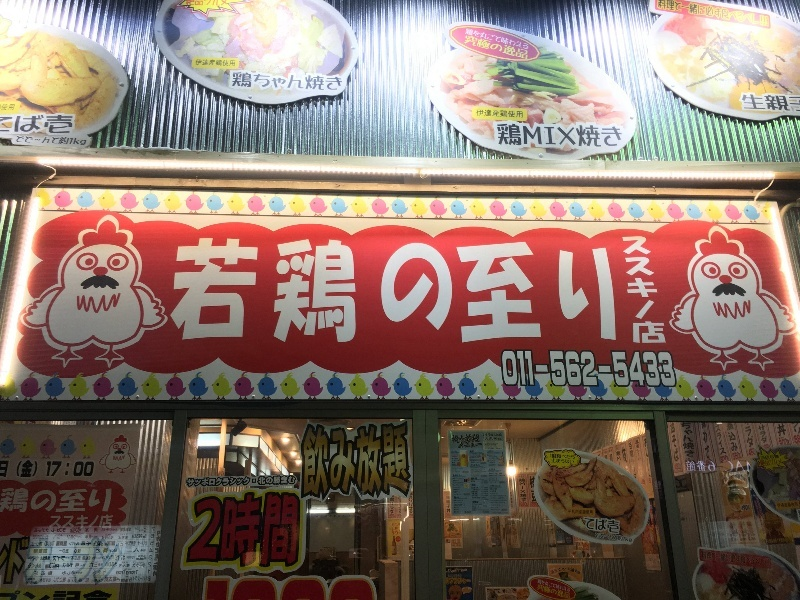text: (625, 230, 640, 349), (641, 230, 656, 349), (177, 236, 192, 348), (193, 236, 208, 348), (209, 236, 224, 348), (225, 236, 240, 348), (241, 236, 256, 348), (257, 236, 272, 348), (273, 236, 288, 348), (289, 236, 304, 348), (305, 236, 320, 348), (321, 236, 336, 348), (337, 236, 352, 348), (353, 236, 368, 348), (369, 236, 384, 348), (385, 236, 400, 348), (401, 236, 416, 348), (417, 236, 432, 348), (433, 236, 448, 348), (449, 236, 464, 348), (465, 236, 480, 348), (481, 236, 496, 348), (497, 236, 512, 348), (513, 236, 528, 348), (529, 236, 544, 348), (545, 236, 560, 348), (561, 236, 576, 348), (577, 236, 592, 348), (593, 236, 608, 348), (609, 236, 623, 348), (289, 490, 305, 574), (657, 230, 668, 349), (193, 490, 208, 574), (209, 490, 224, 574), (225, 490, 240, 574), (241, 490, 256, 574), (257, 490, 272, 574), (273, 490, 288, 574), (305, 420, 320, 503), (321, 420, 336, 503), (337, 420, 352, 503), (353, 420, 368, 503), (369, 420, 384, 503), (385, 420, 400, 503), (465, 451, 480, 515), (481, 451, 496, 515), (401, 420, 412, 503), (452, 451, 464, 515), (497, 451, 508, 515), (17, 537, 31, 586), (674, 423, 688, 471), (513, 349, 528, 389), (529, 349, 544, 389), (545, 349, 560, 389), (561, 349, 576, 389), (577, 349, 592, 389), (593, 349, 608, 389), (609, 349, 624, 389), (625, 349, 640, 389), (641, 349, 656, 389), (657, 349, 672, 389), (150, 526, 160, 583), (498, 349, 512, 389), (646, 437, 656, 485), (620, 230, 624, 349), (529, 476, 544, 507), (1, 486, 16, 516), (17, 486, 32, 516), (33, 486, 48, 516), (49, 486, 64, 516), (65, 486, 80, 516), (81, 486, 96, 516), (97, 486, 112, 516), (513, 35, 529, 61), (481, 35, 496, 61), (497, 35, 512, 61), (497, 122, 512, 148), (513, 122, 528, 148), (529, 122, 544, 148), (545, 122, 560, 148), (561, 122, 576, 148), (577, 122, 592, 148), (593, 122, 608, 148), (209, 573, 224, 599), (225, 573, 240, 599), (241, 573, 256, 599), (257, 573, 272, 599), (273, 573, 288, 599), (289, 573, 304, 599), (305, 573, 320, 599), (321, 573, 336, 599), (337, 573, 352, 599), (353, 573, 368, 599), (513, 28, 529, 51), (466, 35, 480, 61), (241, 71, 256, 94), (257, 71, 272, 94), (273, 71, 288, 94), (289, 71, 304, 94), (305, 71, 320, 94), (321, 71, 336, 94), (481, 28, 496, 51), (497, 28, 512, 51), (673, 1, 688, 24), (689, 1, 704, 24), (705, 1, 720, 24), (721, 1, 736, 24), (609, 122, 622, 148), (188, 490, 192, 574), (705, 424, 713, 466), (753, 93, 768, 115), (769, 93, 784, 115), (17, 112, 32, 134), (33, 112, 48, 134), (49, 112, 64, 134), (466, 28, 480, 51), (658, 1, 672, 24), (673, 349, 681, 389), (632, 442, 640, 481), (785, 93, 799, 115), (705, 549, 720, 569), (721, 549, 736, 569), (737, 549, 752, 569), (753, 549, 768, 569), (10, 537, 16, 586), (369, 573, 380, 599), (593, 516, 608, 535), (726, 425, 736, 453), (19, 458, 32, 479), (49, 461, 64, 478), (65, 461, 80, 478), (81, 461, 96, 478), (519, 479, 528, 507), (301, 420, 304, 503), (681, 423, 688, 458), (689, 423, 696, 458), (741, 93, 752, 115), (65, 112, 76, 134), (641, 440, 646, 486), (609, 516, 621, 535), (545, 578, 560, 593), (545, 584, 560, 599), (483, 433, 496, 450), (757, 425, 768, 445), (65, 516, 80, 530), (81, 516, 96, 530), (97, 516, 112, 530), (390, 497, 400, 518), (50, 516, 64, 530), (17, 134, 32, 147), (33, 134, 48, 147), (49, 134, 64, 147), (65, 134, 80, 147), (744, 425, 752, 449), (721, 425, 727, 456), (232, 71, 240, 94), (193, 475, 208, 487), (209, 475, 224, 487), (225, 475, 240, 487), (241, 475, 256, 487), (257, 475, 272, 487), (273, 475, 288, 487), (481, 108, 496, 120), (497, 108, 512, 120), (409, 493, 416, 518), (33, 458, 41, 479), (700, 424, 704, 466), (609, 532, 624, 543), (337, 71, 344, 94), (737, 1, 744, 24), (129, 576, 145, 586), (584, 516, 592, 535), (465, 434, 480, 444), (561, 578, 571, 593), (561, 584, 571, 599), (33, 576, 48, 586), (49, 576, 64, 586), (65, 576, 80, 586), (81, 576, 96, 586), (97, 576, 112, 586), (113, 576, 128, 586), (513, 108, 525, 120), (595, 532, 608, 543), (157, 530, 160, 577), (561, 567, 576, 576), (451, 434, 464, 444), (769, 458, 782, 468), (203, 573, 208, 599), (391, 522, 400, 536), (209, 59, 224, 67), (449, 577, 464, 585), (616, 451, 624, 466), (561, 458, 575, 466), (776, 424, 784, 438), (740, 503, 752, 512), (577, 508, 592, 515), (33, 555, 48, 562), (49, 555, 64, 562), (65, 555, 80, 562), (81, 555, 96, 562), (97, 555, 112, 562), (113, 555, 128, 562), (129, 555, 144, 562), (465, 442, 480, 449), (497, 433, 503, 450), (769, 453, 780, 462), (561, 453, 575, 460), (289, 475, 297, 487), (225, 59, 237, 67), (129, 563, 145, 569), (81, 134, 88, 147), (113, 486, 116, 516), (538, 578, 544, 593), (538, 584, 544, 599), (33, 563, 48, 569), (49, 563, 64, 569), (65, 563, 80, 569), (81, 563, 96, 569), (97, 563, 112, 569), (113, 563, 128, 569), (33, 542, 48, 548), (49, 542, 64, 548), (65, 542, 80, 548), (81, 542, 96, 548), (97, 542, 112, 548), (113, 542, 128, 548), (129, 542, 144, 548), (49, 534, 64, 540), (65, 534, 80, 540), (81, 534, 96, 540), (97, 534, 112, 540), (113, 534, 128, 540), (129, 534, 144, 540), (49, 527, 64, 533), (65, 527, 80, 533), (81, 527, 96, 533), (97, 527, 112, 533), (113, 527, 128, 533), (129, 527, 144, 533), (197, 59, 208, 67), (625, 532, 633, 543), (34, 534, 48, 540), (551, 567, 560, 576), (700, 549, 704, 569), (785, 502, 798, 508), (35, 527, 48, 533), (65, 549, 80, 554), (65, 571, 80, 576), (186, 475, 192, 487), (761, 458, 768, 468), (34, 549, 48, 554), (34, 571, 48, 576), (550, 453, 560, 460), (445, 493, 448, 516), (117, 570, 128, 576), (552, 458, 560, 466), (761, 453, 768, 462), (568, 508, 576, 515), (129, 570, 138, 576), (621, 446, 624, 464), (625, 446, 628, 464), (494, 122, 496, 148), (45, 461, 48, 478), (27, 576, 32, 586), (465, 577, 471, 585), (753, 425, 755, 449), (449, 493, 451, 516), (639, 440, 640, 486), (97, 570, 106, 575), (777, 502, 784, 508), (458, 442, 464, 449), (769, 549, 771, 569), (477, 108, 480, 120), (577, 567, 581, 576), (737, 425, 738, 453), (59, 549, 64, 554), (15, 112, 16, 134), (49, 571, 53, 576), (145, 542, 148, 548), (446, 577, 448, 585), (113, 516, 114, 530), (30, 555, 32, 562), (145, 555, 147, 562), (785, 424, 786, 438), (401, 522, 402, 536), (30, 563, 32, 569), (145, 534, 147, 540), (145, 527, 147, 533), (81, 571, 83, 576), (94, 570, 96, 575), (593, 508, 594, 515), (481, 442, 482, 449), (31, 542, 32, 548), (81, 549, 82, 554), (63, 571, 64, 576)
